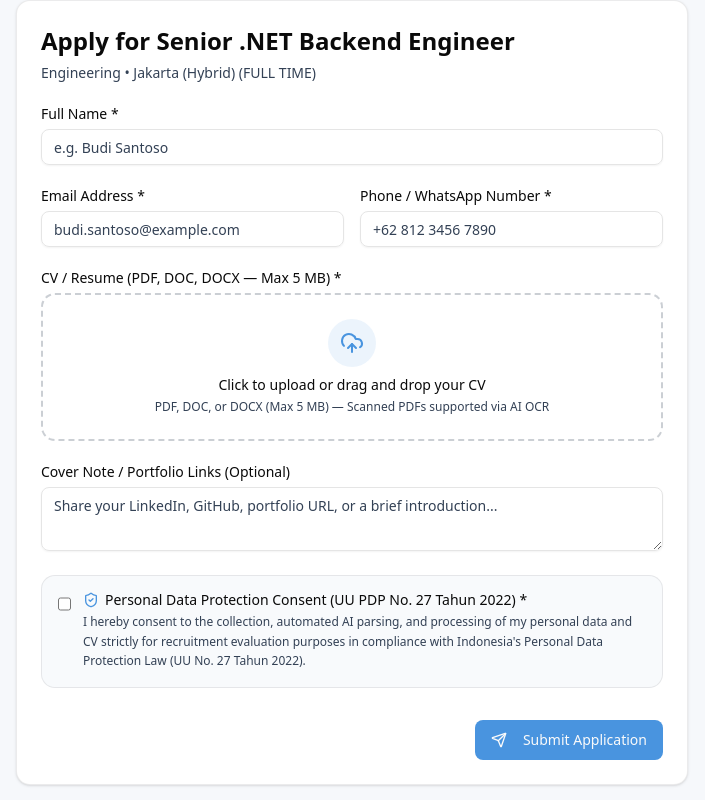
Scenario: Recruitment ATS & Public Career Portal Components › enforces UU PDP No. 27/2022 consent and required fields on ApplyForm
The width and height of the screenshot is (705, 800).
Step 1. Click the button "Submit Application" → (569, 740), box [475,720,663,760]
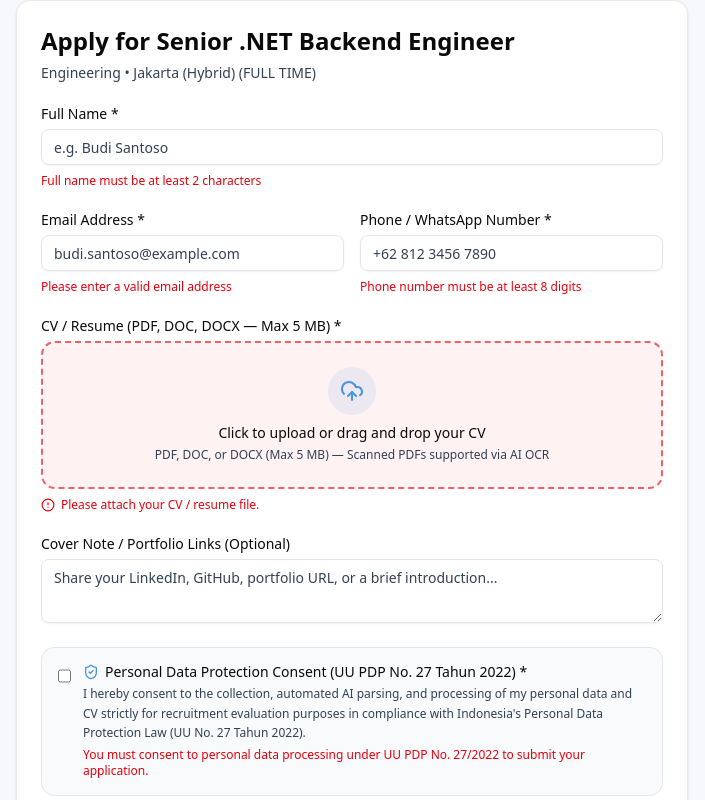
Expected: the text "Full name must be at least 2 characters" is shown, [41,172,261,189]
Expected: the text "Please enter a valid email address" is shown, [41,278,232,295]
Expected: the text "UU PDP No. 27/2022" is shown, [83,746,585,778]
